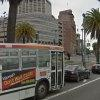Bus: (1, 36, 70, 99)
